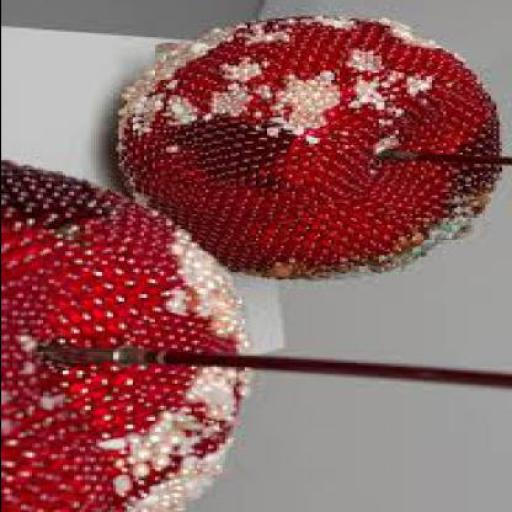biodegradable: (114, 18, 511, 284), (1, 161, 261, 511)
